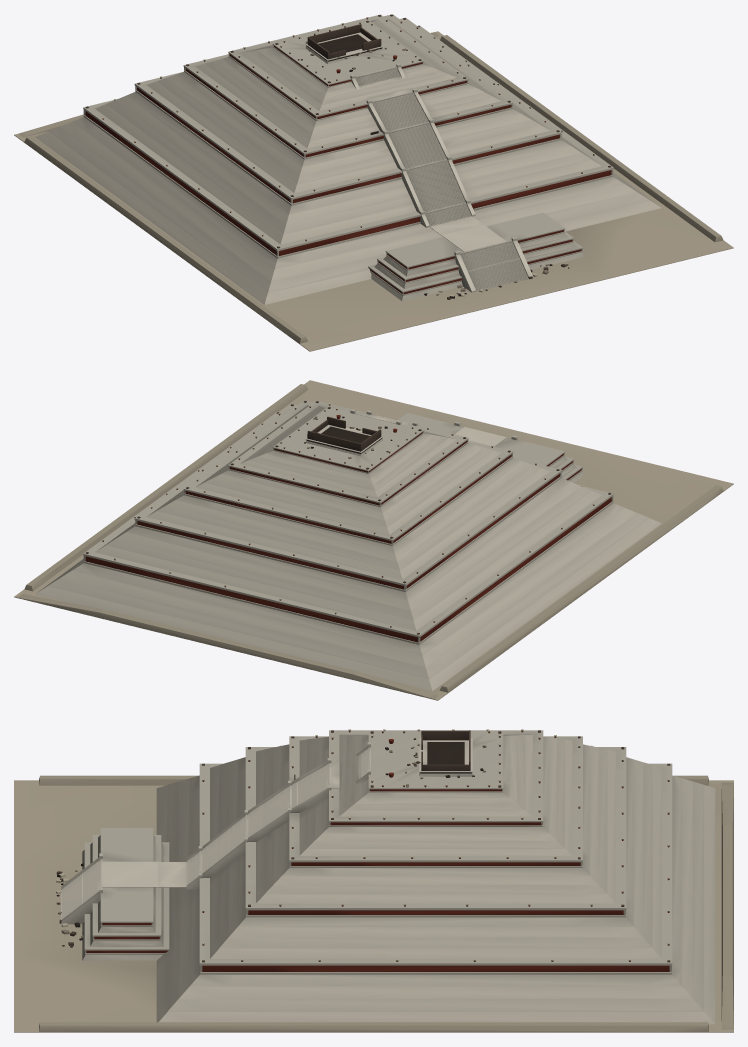
The model's file is pyramid-of-the-sun-650.glb.
3 renders of one model, top to bottom at view 1: azimuth 30°, elevation 25°; view 2: azimuth 150°, elevation 25°; view 3: azimuth 270°, elevation 25°, orthographic. The views are drawn at different scales.
Parts seen in each view (by area): view 1: p1_pyramid, p0_ground, p2_temple; view 2: p1_pyramid, p0_ground, p2_temple; view 3: p1_pyramid, p0_ground, p2_temple.
Boxes of the visible parts, box(x1,y1,x2,y2) form: p1_pyramid: box(35, 14, 661, 304); p0_ground: box(14, 31, 733, 351); p2_temple: box(85, 14, 611, 299); p1_pyramid: box(35, 400, 661, 691); p0_ground: box(14, 380, 733, 700); p2_temple: box(85, 401, 611, 634); p1_pyramid: box(82, 730, 715, 1024); p0_ground: box(14, 775, 733, 1032); p2_temple: box(56, 729, 670, 962).
Bounding box in the file's own units: 240 × 71.44 × 290.
